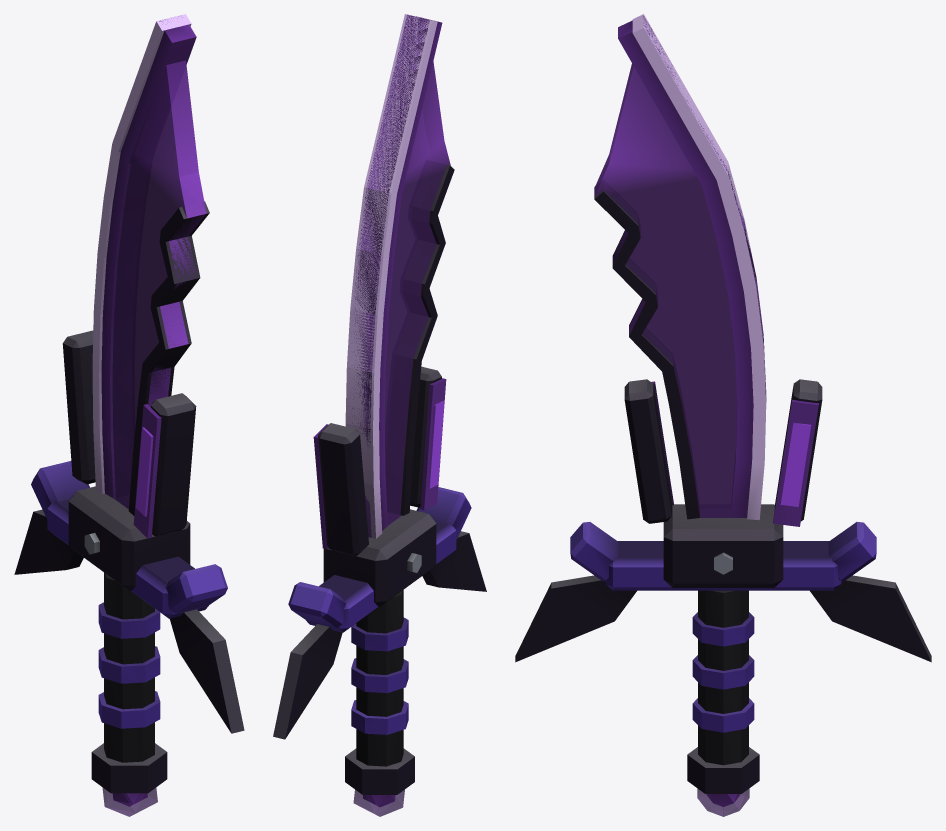
Rendered from Saber.fbx.
3 views of the same model, side by side, from view 1: azimuth 30°, elevation 25°; view 2: azimuth 150°, elevation 25°; view 3: azimuth 270°, elevation 25° (orthographic). The views are drawn at different scales.
Visible parts, largest first — view 1: Body, Blade_Glow, Halo_Glow, Accent_Glow; view 2: Body, Blade_Glow, Halo_Glow, Accent_Glow; view 3: Body, Blade_Glow, Halo_Glow, Accent_Glow.
Part boxes in pixels (x1,y1,x2,y2): Body: [14, 201, 244, 793]; Blade_Glow: [92, 14, 206, 509]; Halo_Glow: [102, 404, 161, 816]; Accent_Glow: [112, 427, 153, 806]; Body: [273, 161, 486, 794]; Blade_Glow: [345, 14, 450, 538]; Halo_Glow: [313, 378, 446, 816]; Accent_Glow: [363, 401, 444, 806]; Body: [515, 181, 931, 793]; Blade_Glow: [594, 14, 766, 520]; Halo_Glow: [651, 381, 818, 816]; Accent_Glow: [706, 422, 811, 806].
Bounding box in the file's own units: 0.49 × 4.85 × 2.3.
